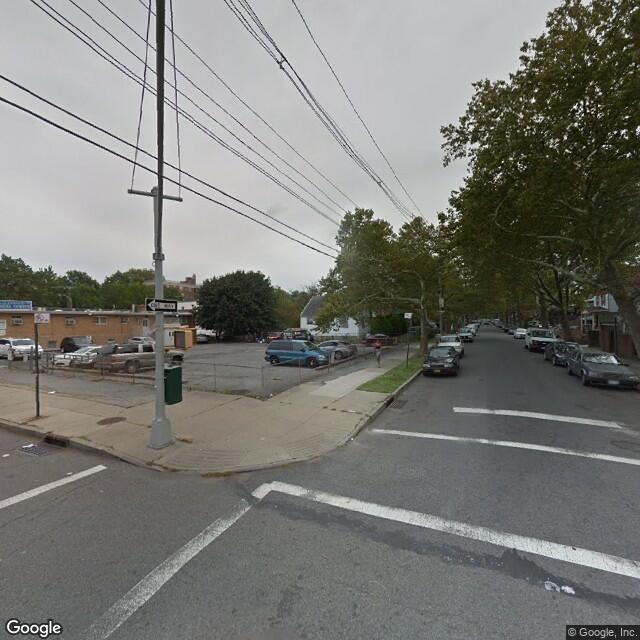litter: (544, 579, 558, 591), (562, 583, 575, 594), (2, 452, 14, 458), (46, 388, 60, 392), (23, 444, 37, 448), (350, 437, 355, 440), (260, 435, 263, 438), (270, 392, 273, 394), (68, 472, 73, 473)
